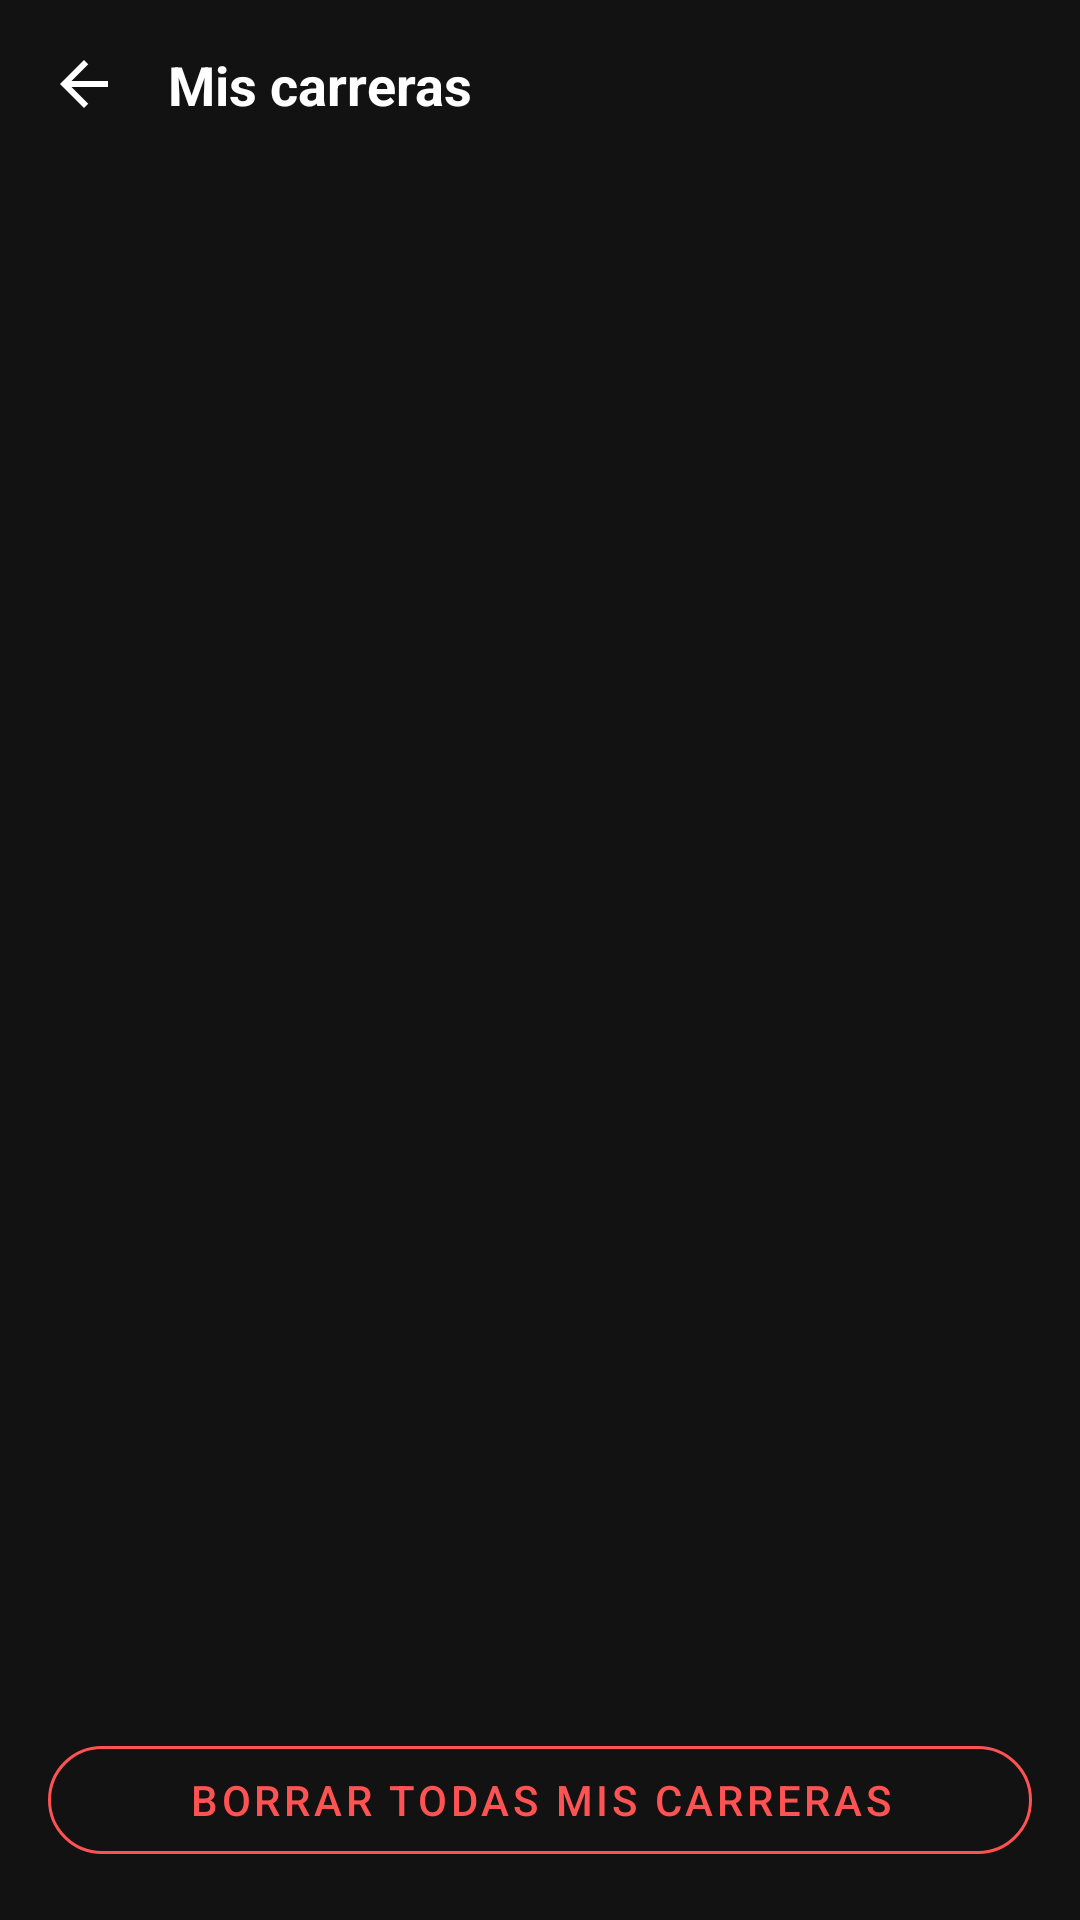

Icon click points for this 1080px×1920px phone screenshot, format point (x, y):
Volver: point (84, 84)
